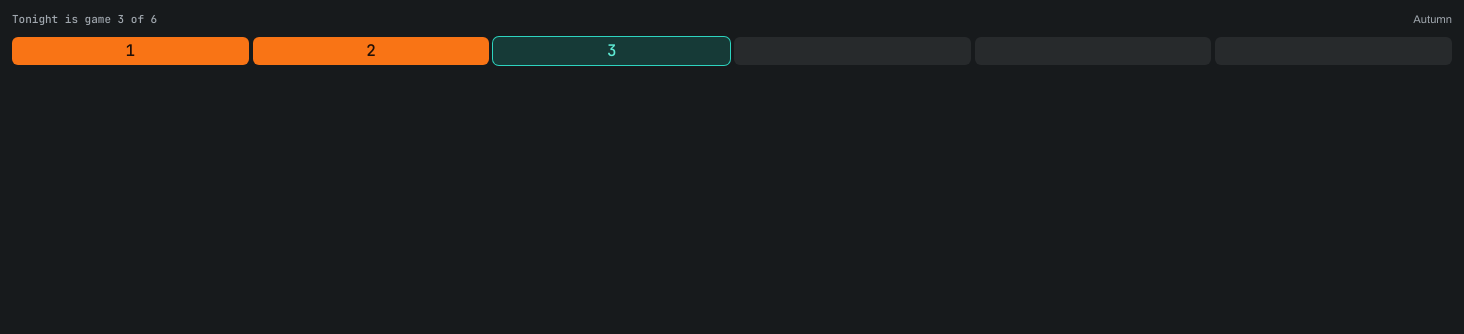
Test case: the season game bar › a game with no History record shows the league's own results
This screenshot has width=1464, height=334.
Click the button named "Game 1".
click(130, 51)  # box [12,37,249,65]
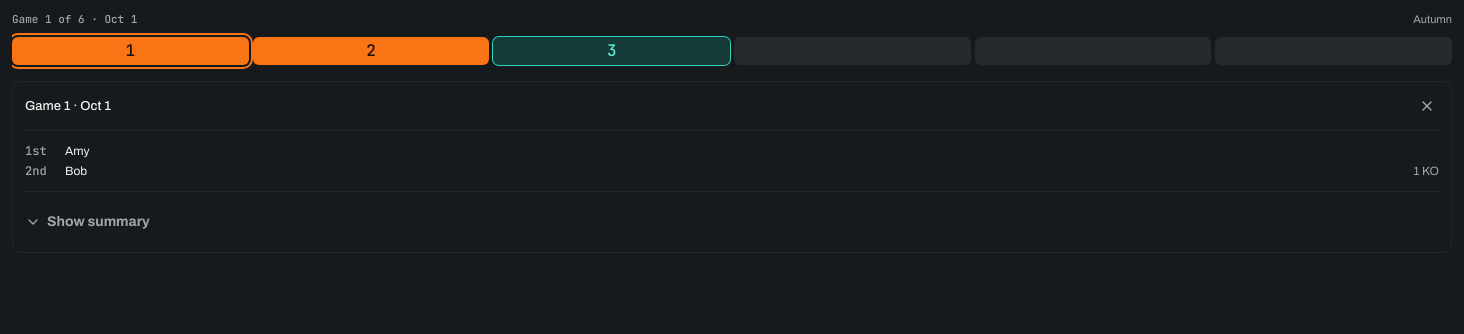
expect the text "1 KO" is shown: met, box [1413,163,1439,179]
Click the button "Show summary".
click(87, 222)  # box [17,204,158,240]
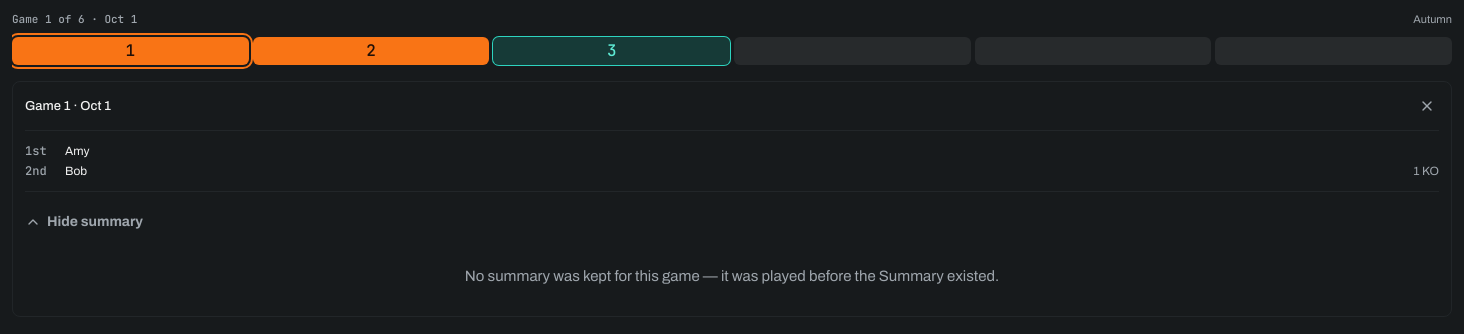
expect the text "No summary was kept" is shown: met, box [465,268,999,284]
